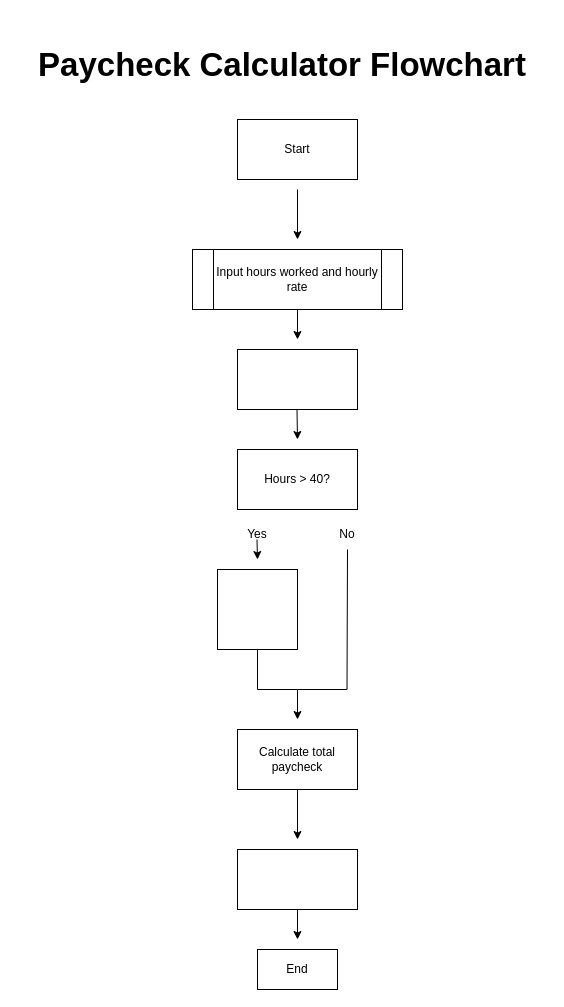
The diagram is 564 pixels wide and 1007 high, and some of its shapes have lost their labels. Here are the shapes that lost their labels. From the top down, the centre of each, then its label:
point (297, 379): Calculate regular pay
point (257, 609): Calculate overtime pay
point (297, 879): Output total paycheck
